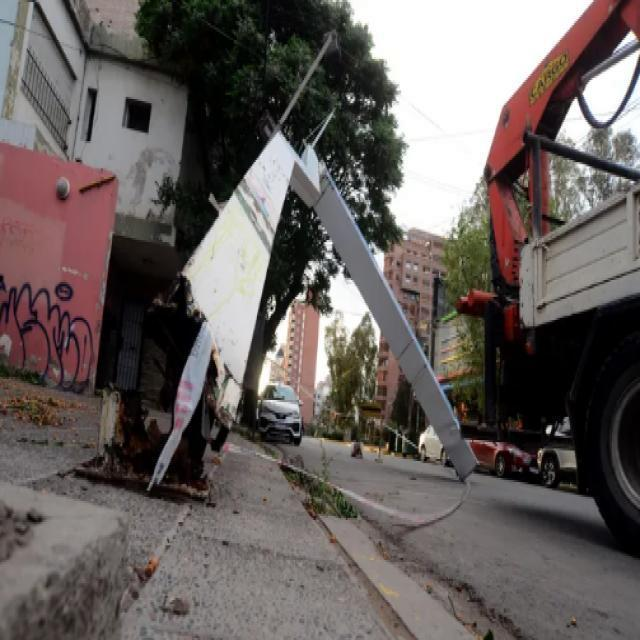Broken Pole: (96, 128, 479, 502)
